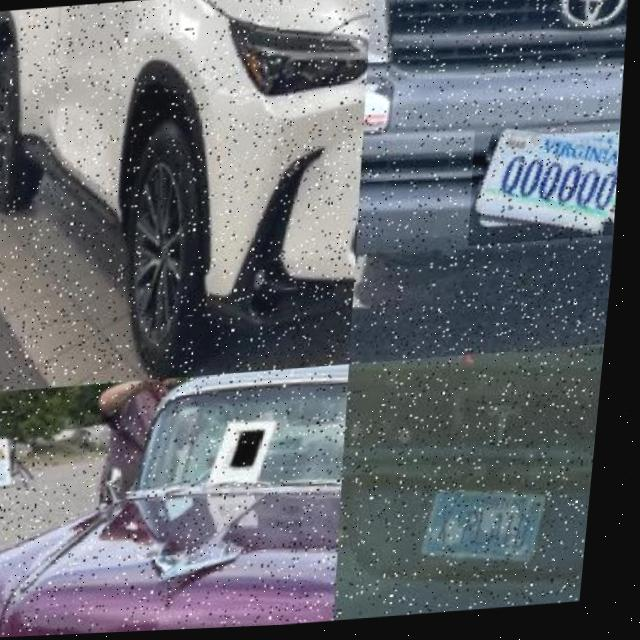LicensePlate: (475, 133, 622, 242), (427, 495, 556, 574)
